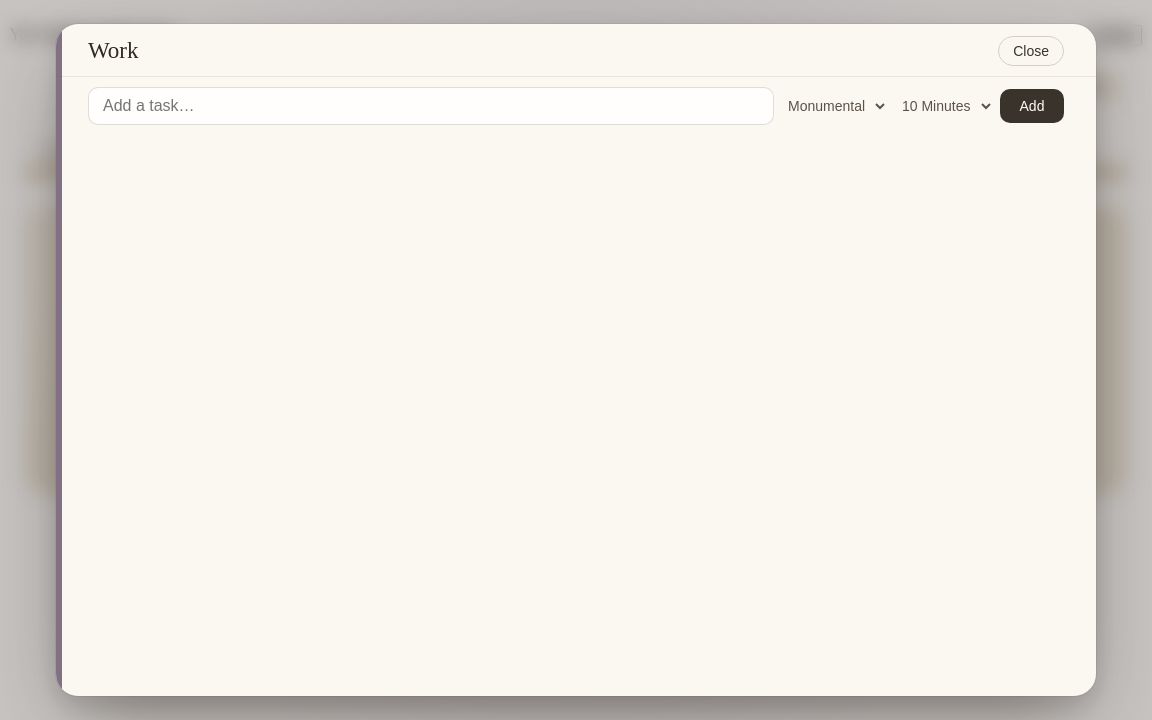
Test case: reloading with a journal open keeps it open; Close still lays it down
Click the button with aria-label "Close Work" at (1031, 51), box [998,36,1064,66]
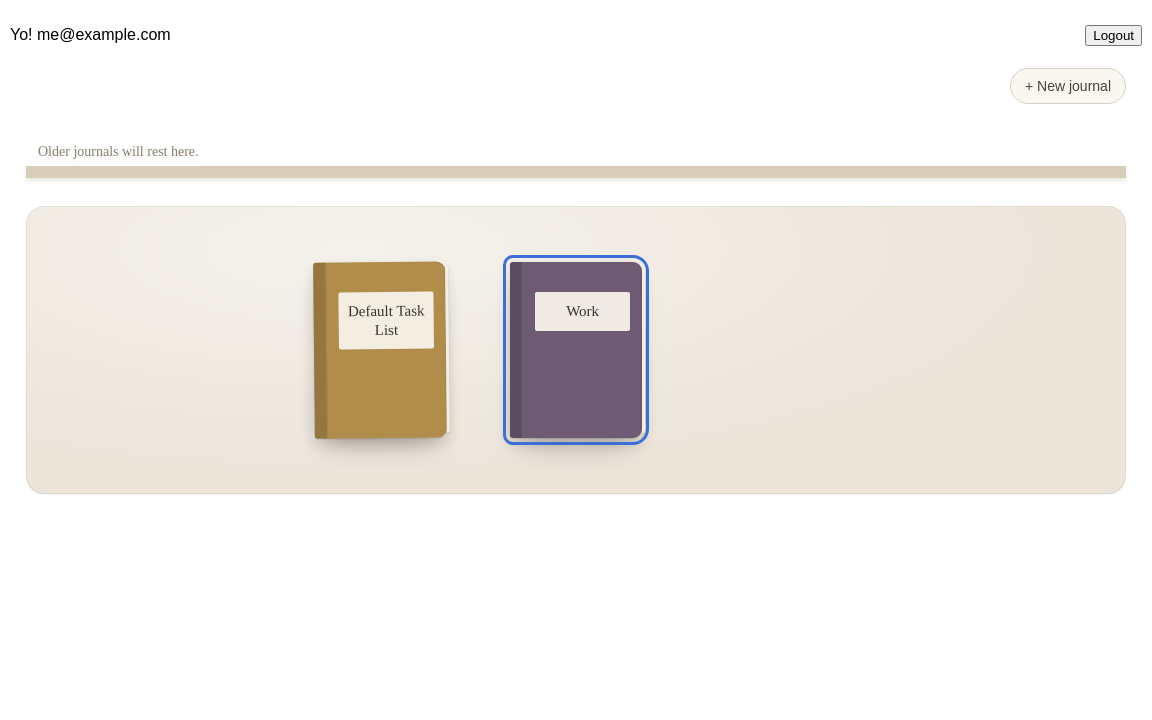
Expected: the dialog is gone
